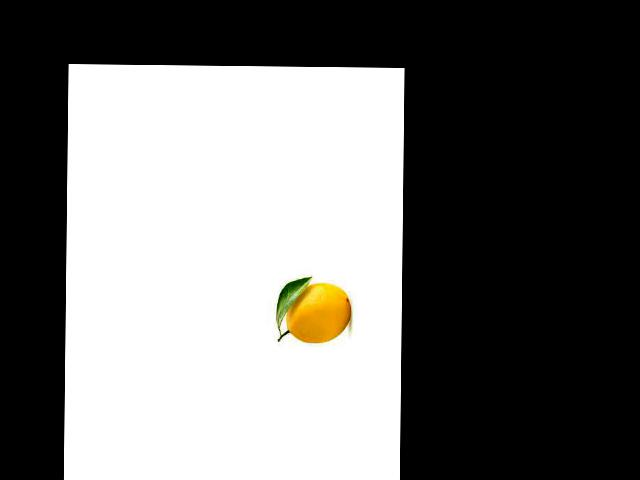lemon: (280, 279, 356, 347)
